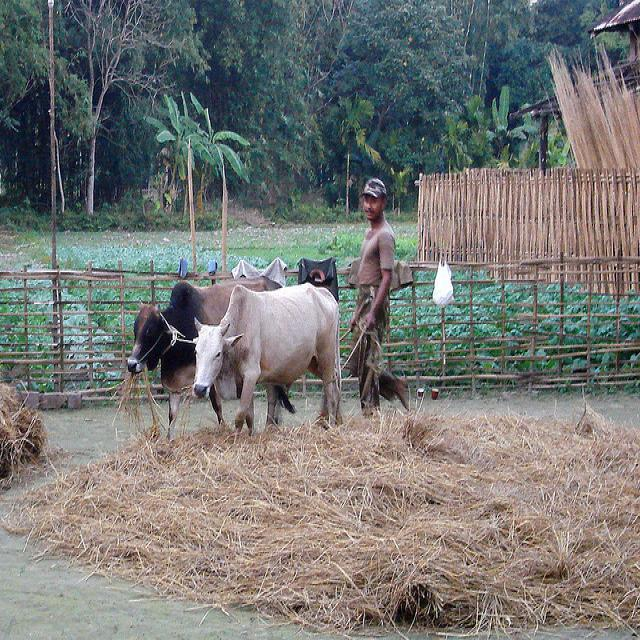cow: (126, 273, 293, 440), (191, 281, 341, 447)
